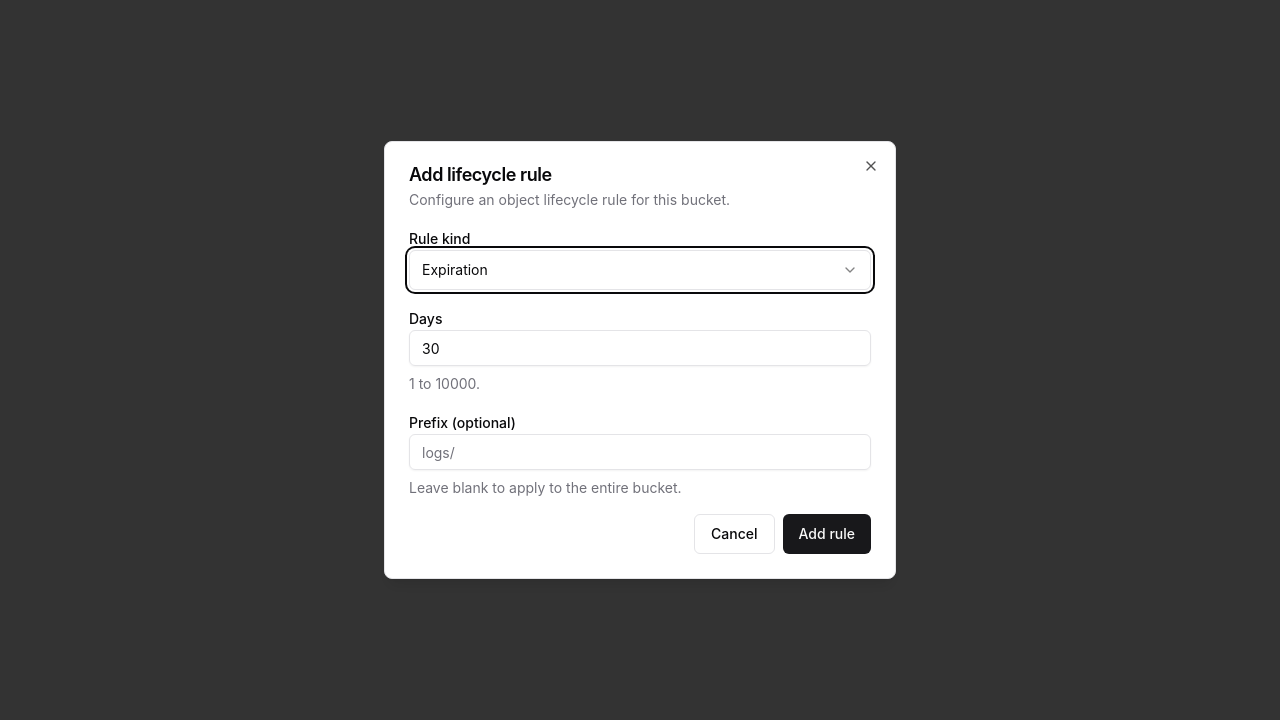
Test: CreateRuleDialog › maps pointer errors to the matching form field
The width and height of the screenshot is (1280, 720).
# Switch to noncurrent-expiration kind
Click the dropdown named "rule kind": (455, 270) [409, 250, 871, 290]
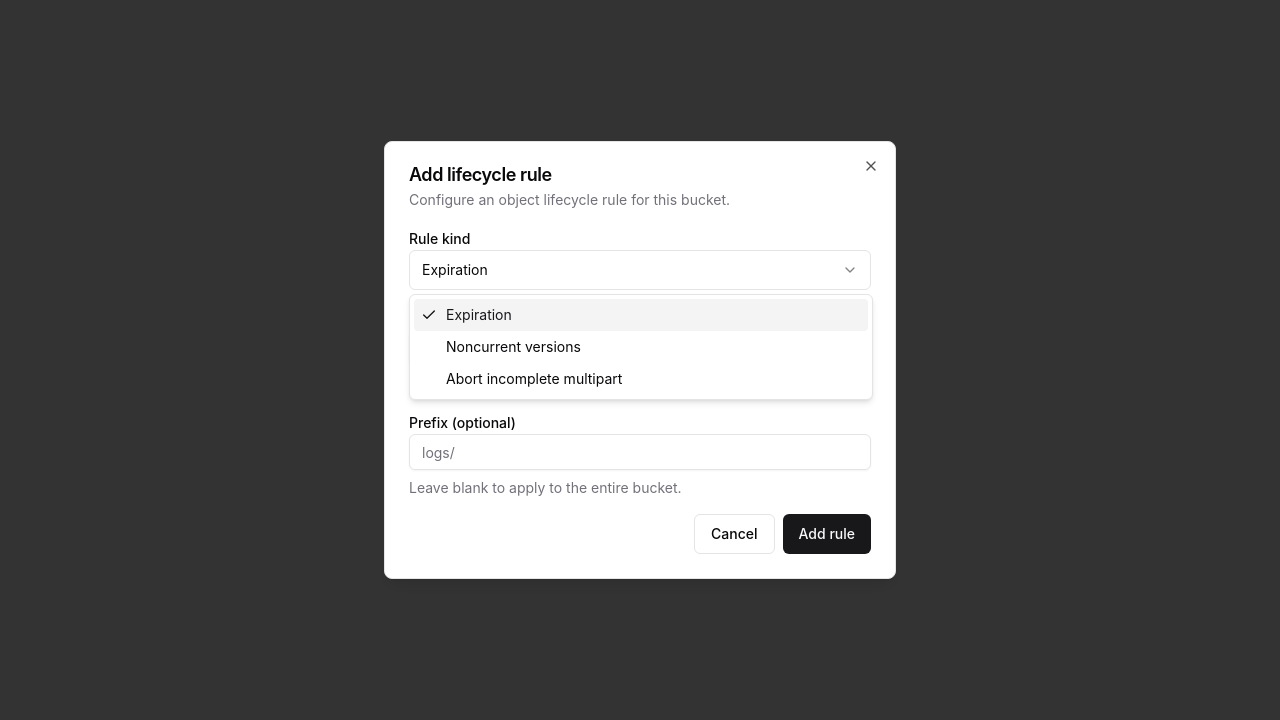
Click the option "Noncurrent versions": (513, 346) [446, 338, 581, 355]
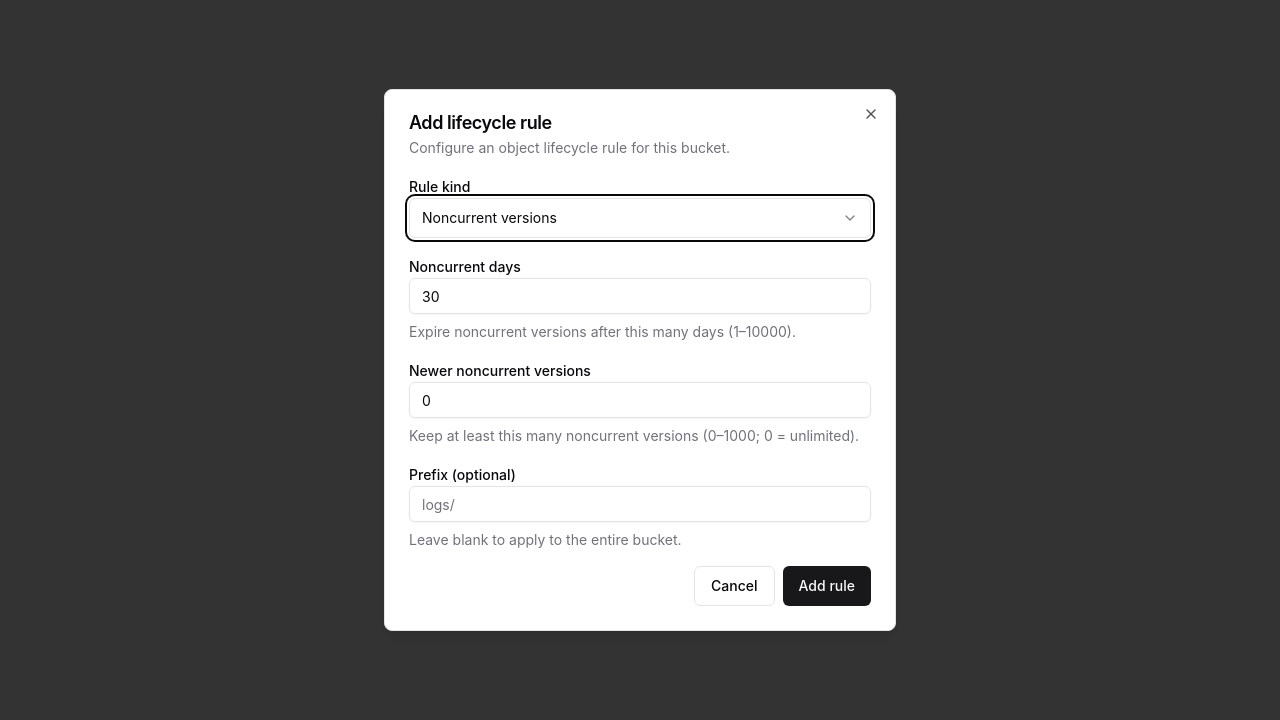
Click the button "Add rule": (827, 586) [782, 566, 871, 606]
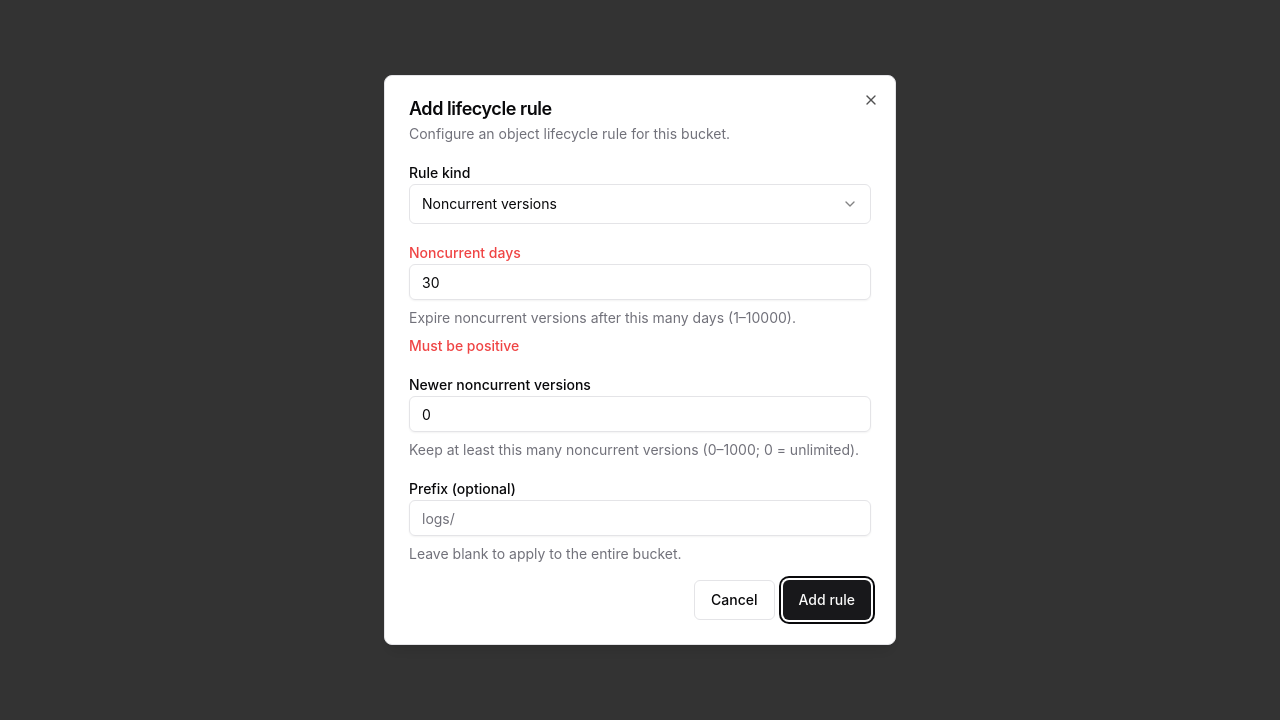
Expected: the text "Must be positive" is shown, [409, 337, 519, 354]
